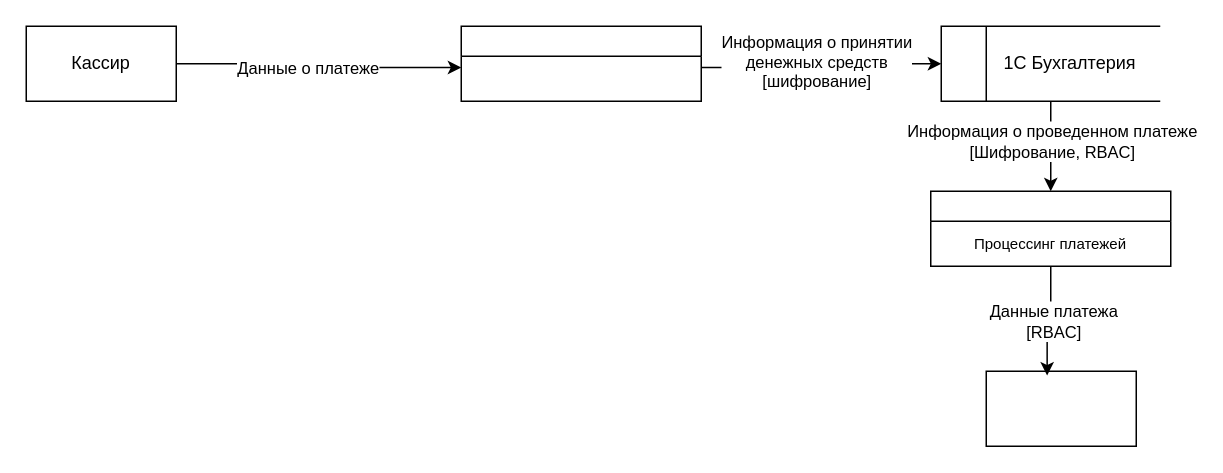
This 1223x473 diagram has some shape labels left out. The centre of each missing label's shape, as x and y in pixels:
Бухгалтер: the point at 1060,408
Принятие оплаты за медицинские услуги: the point at 580,63
